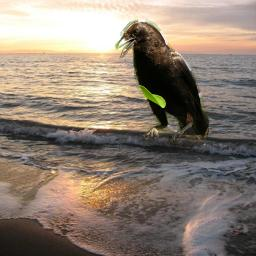Crow: (115, 19, 209, 146)
